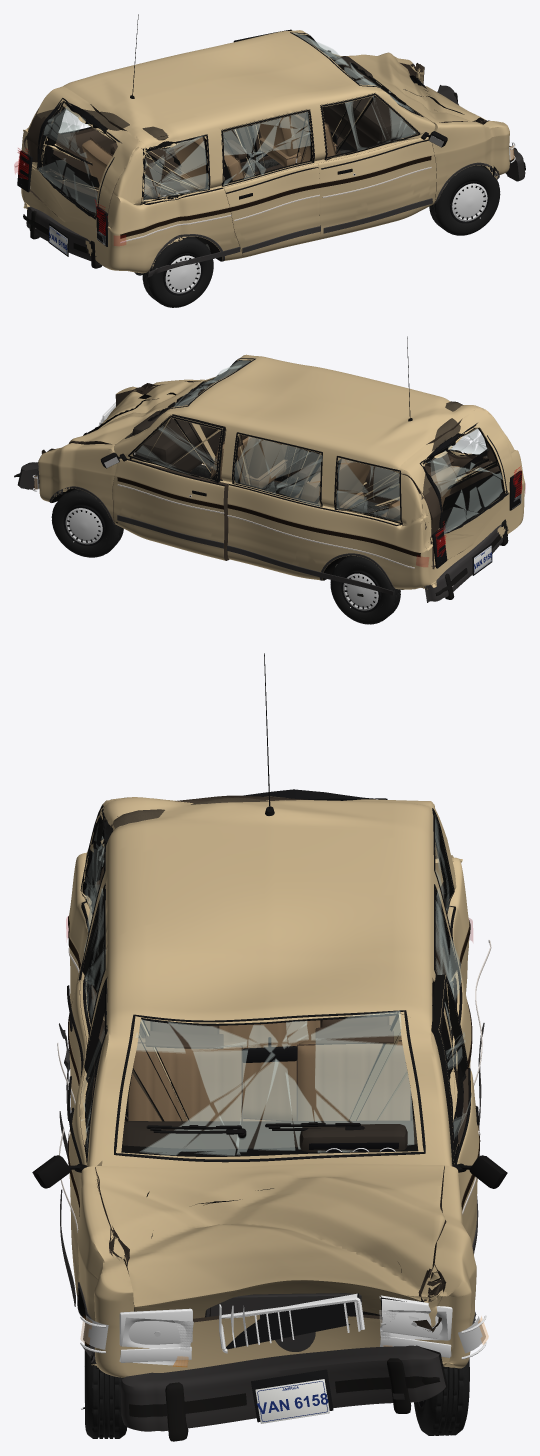
File: minivan86_front_d1.glb
3 views of the same model, one above another, from view 1: azimuth 30°, elevation 25°; view 2: azimuth 150°, elevation 25°; view 3: azimuth 270°, elevation 25° (orthographic). The views are drawn at different scales.
Parts seen in each view (by area): view 1: Body, Interior, Door_FR, Door_SR, Liftgate, Wheel_FR_mesh, Glass, Glass_Liftgate, Wheel_RR_mesh, Hood, Trim, Trim_FR (+9 smaller); view 2: Body, Door_FL, Interior, Glass, Trim, Liftgate, Wheel_FL_mesh, Wheel_RL_mesh, Glass_Liftgate, Hood, Trim_FL, Bumper_R (+6 smaller); view 3: Body, Hood, Interior, Glass, Ends, Bumper_F, Trim, Door_FL, Door_FR, Wheel_FR_mesh, Wheel_FL_mesh, Trim_FR (+5 smaller).
Part boxes in pixels (box(x1,y1,x2,y2)): Body: box(21, 30, 509, 273); Interior: box(82, 56, 413, 197); Door_FR: box(318, 93, 436, 239); Door_SR: box(221, 109, 320, 257); Liftgate: box(27, 86, 146, 226); Wheel_FR_mesh: box(429, 165, 500, 235); Glass: box(59, 32, 423, 204); Glass_Liftgate: box(36, 98, 121, 219); Wheel_RR_mesh: box(142, 236, 213, 307); Hood: box(349, 52, 486, 123); Trim: box(15, 14, 499, 277); Trim_FR: box(319, 93, 447, 233); Body: box(38, 354, 524, 589); Door_FL: box(112, 414, 229, 560); Interior: box(132, 388, 459, 518); Glass: box(125, 358, 488, 520); Trim: box(49, 336, 420, 595); Liftgate: box(398, 407, 515, 569); Wheel_FL_mesh: box(51, 489, 123, 557); Wheel_RL_mesh: box(330, 555, 400, 624); Glass_Liftgate: box(419, 423, 508, 533); Hood: box(68, 381, 202, 444); Trim_FL: box(100, 416, 225, 548); Bumper_R: box(424, 519, 508, 602); Body: box(69, 797, 476, 1377); Hood: box(95, 1163, 446, 1318); Interior: box(122, 1015, 417, 1152); Glass: box(82, 807, 461, 1162); Ends: box(80, 1293, 486, 1423); Bumper_F: box(120, 1345, 447, 1441); Trim: box(59, 653, 491, 1369); Door_FL: box(431, 974, 479, 1254); Door_FR: box(69, 977, 107, 1295); Wheel_FR_mesh: box(80, 1310, 127, 1438); Wheel_FL_mesh: box(414, 1358, 469, 1435); Trim_FR: box(32, 978, 106, 1306).
Bounding box in the file's own units: 4.3 × 2.44 × 2.07.
34 materials, 5 textured.
